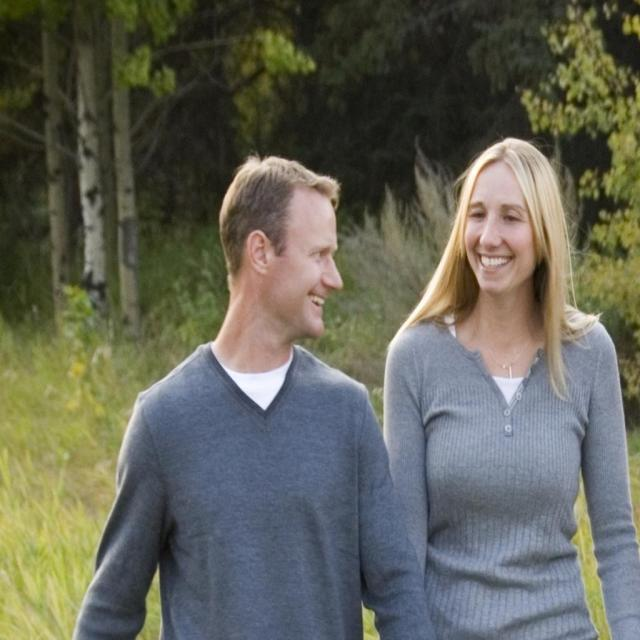Face: (456, 164, 546, 300), (275, 182, 345, 347)
